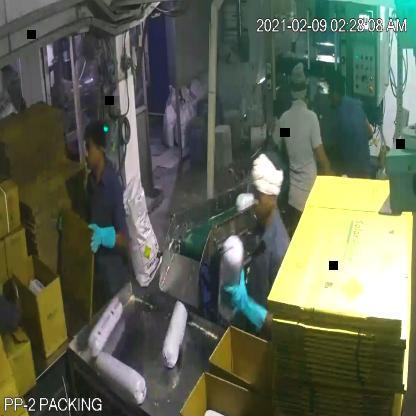glove: (218, 265, 270, 335), (84, 218, 125, 265)
no_glove: (312, 141, 345, 181)
